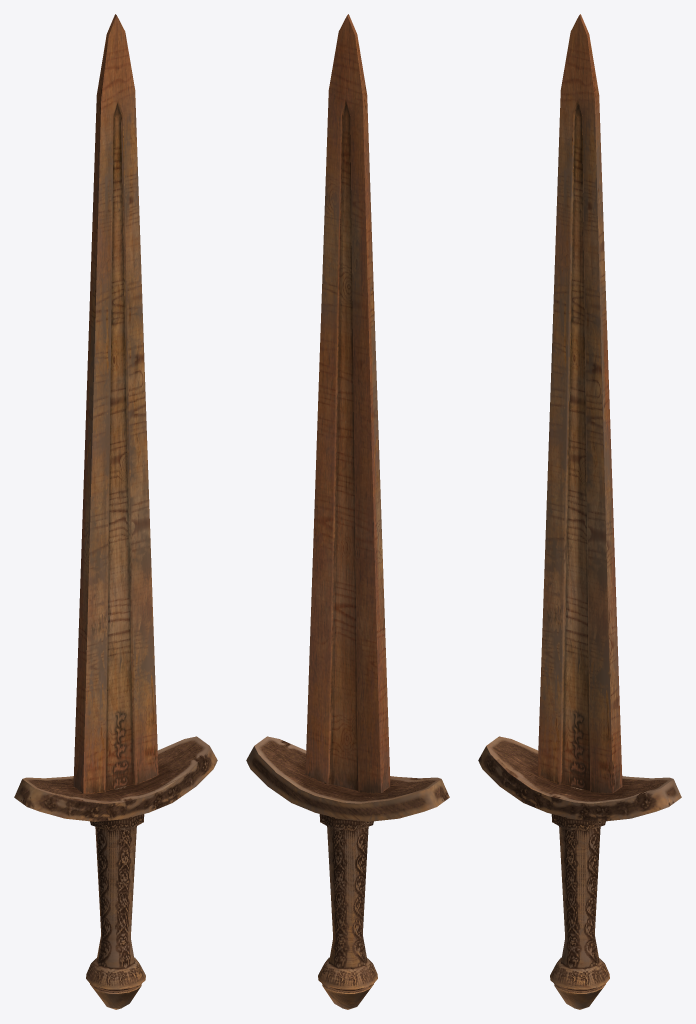
Rendered from LowPolySword.fbx.
3 views of the same model, side by side, from view 1: azimuth 30°, elevation 25°; view 2: azimuth 150°, elevation 25°; view 3: azimuth 330°, elevation 25° (orthographic).
Parts seen in each view (by area): view 1: Sword; view 2: Sword; view 3: Sword.
Boxes of the visible parts, <box> form: Sword: <box>14,14,217,1009</box>; Sword: <box>246,14,449,1009</box>; Sword: <box>478,14,681,1009</box>.
Size of the model in its own units: 240 by 1198 by 82.79.
